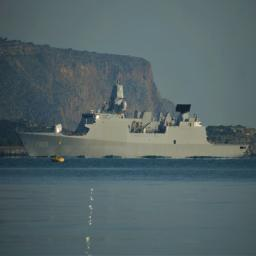Fragata: (13, 77, 252, 161)
